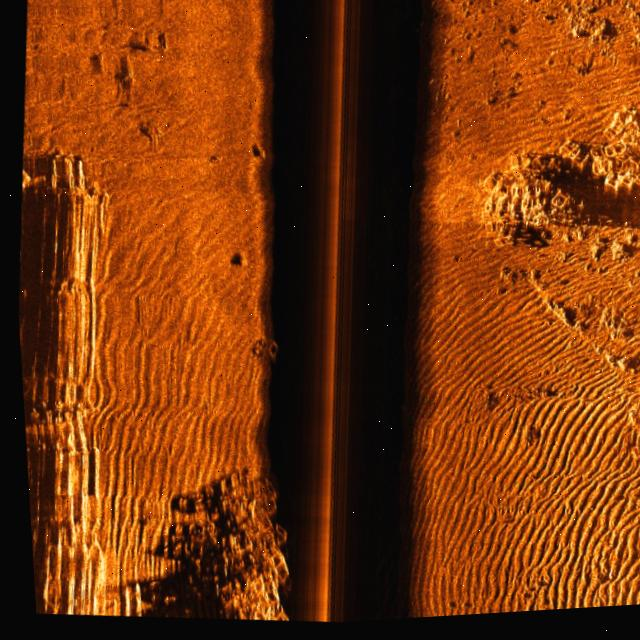artificial reef: (463, 96, 640, 260), (178, 463, 317, 630), (241, 329, 305, 393)
